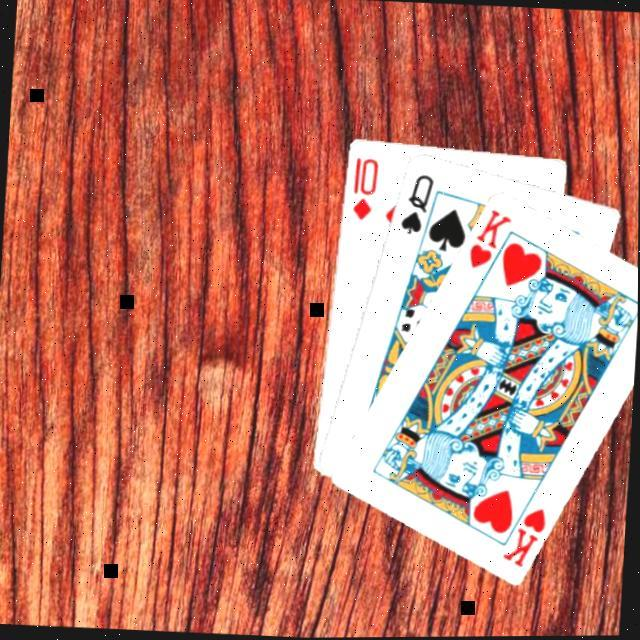10D: (348, 156, 382, 225)
KH: (500, 504, 551, 572), (466, 207, 515, 274)
QS: (398, 171, 438, 239)
